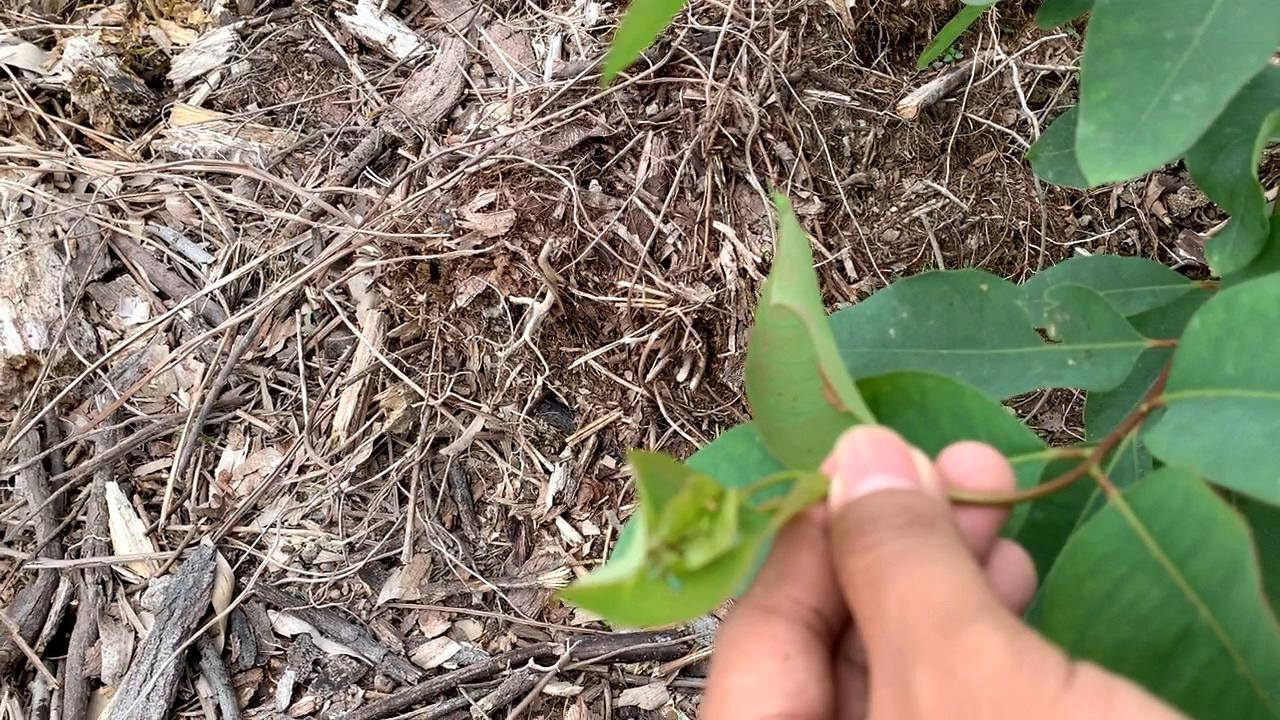Leaf Roller - Leaf: (570, 445, 797, 619)
